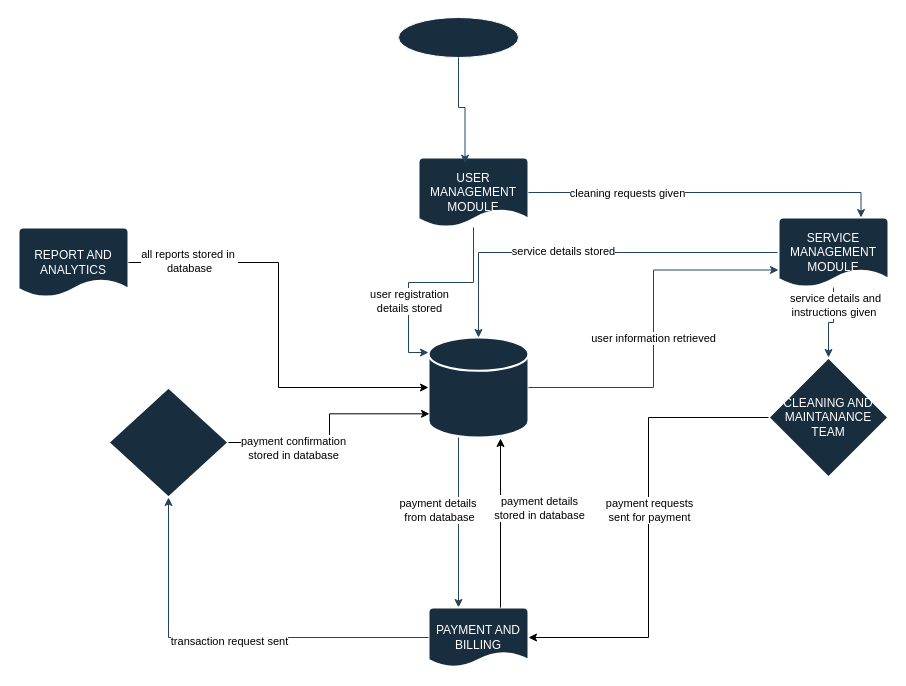
The diagram is 906 pixels wide and 686 high, and some of its shapes have lost their labels. The shapes that lost their labels are listed below. From the top down, each one's centre as x and y in pixels, then its label:
the point at 458,37: START
the point at 478,387: DATABASE
the point at 168,442: PAYMENT PROCESSOR
